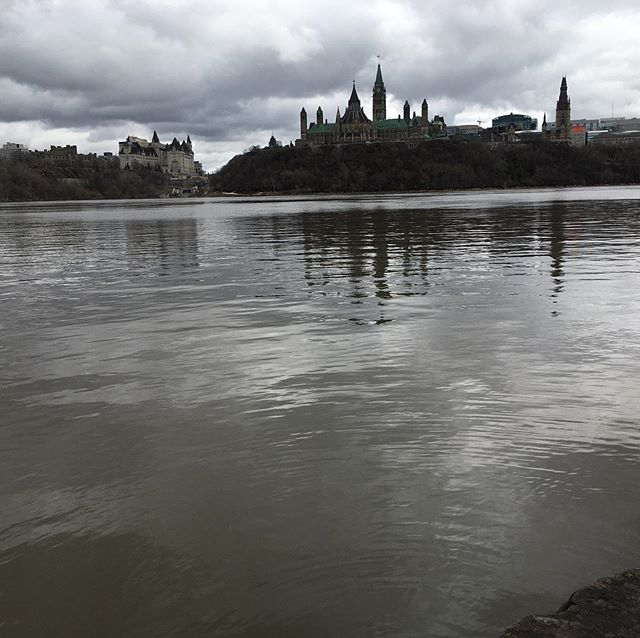building: (285, 64, 459, 150), (115, 125, 203, 178), (1, 142, 94, 175), (548, 71, 584, 145), (485, 107, 534, 155)
river: (5, 191, 637, 638)
sky: (1, 1, 627, 120)
vegetation: (221, 144, 640, 197), (1, 163, 142, 205)
